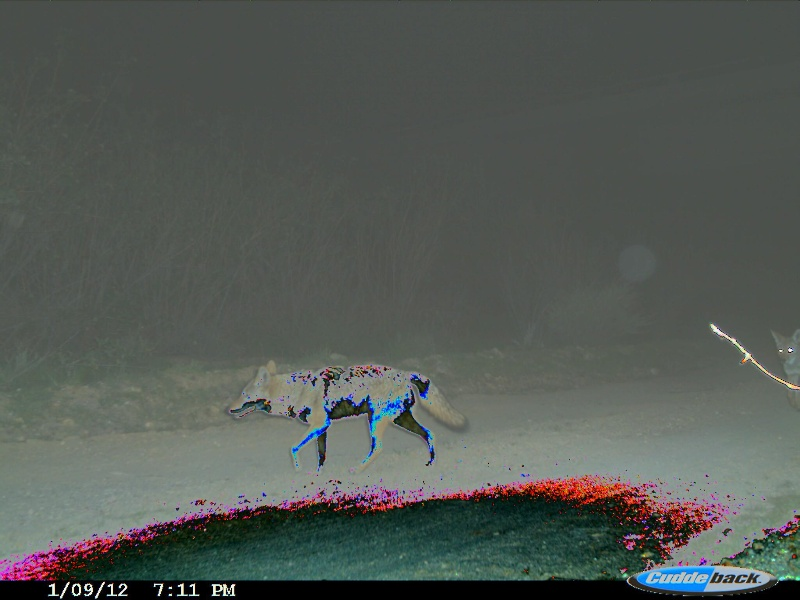coyote: (226, 361, 470, 475), (768, 325, 800, 417)
